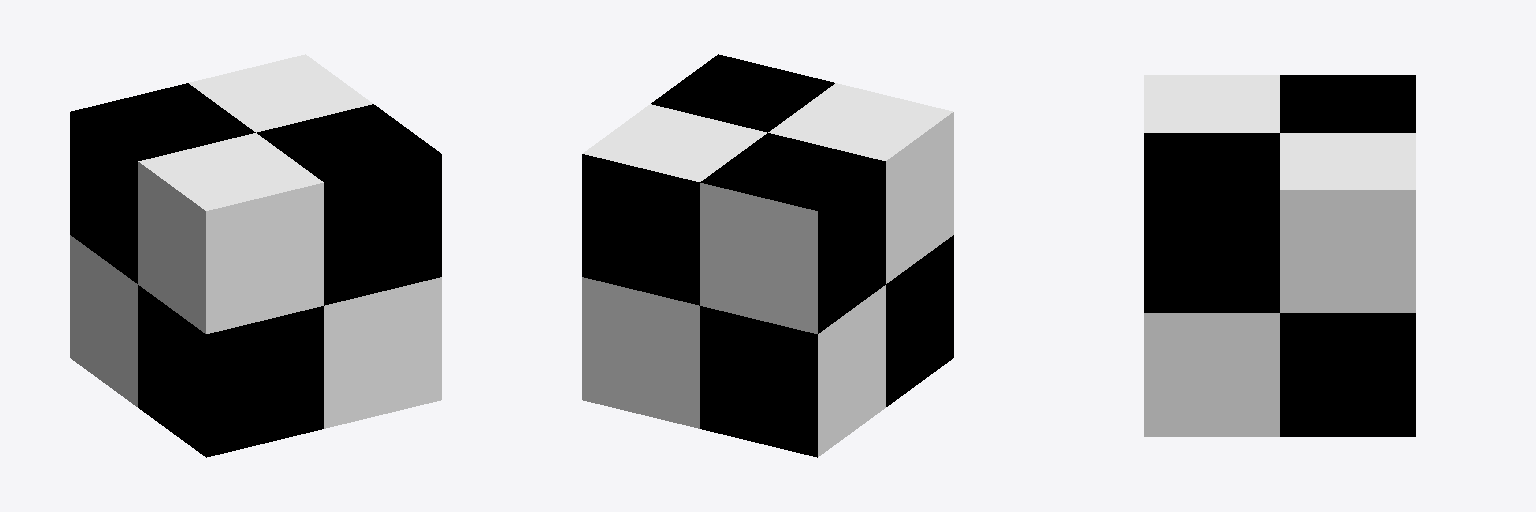
3 views of the same model, side by side, from view 1: azimuth 30°, elevation 25°; view 2: azimuth 150°, elevation 25°; view 3: azimuth 270°, elevation 25° (orthographic).
Parts seen in each view (by area): view 1: cube; view 2: cube; view 3: cube.
Part boxes in pixels (x1,y1,x2,y2): cube: (70,54,441,457); cube: (582,54,953,457); cube: (1144,75,1415,436).
Bounding box in the file's own units: 1 × 1 × 1.
Materials: 1 (1 with a texture image).